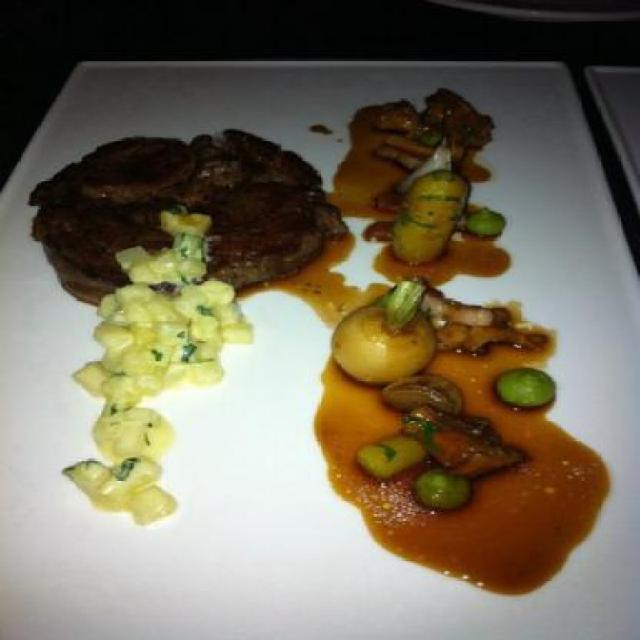Steak: (56, 144, 347, 282)
